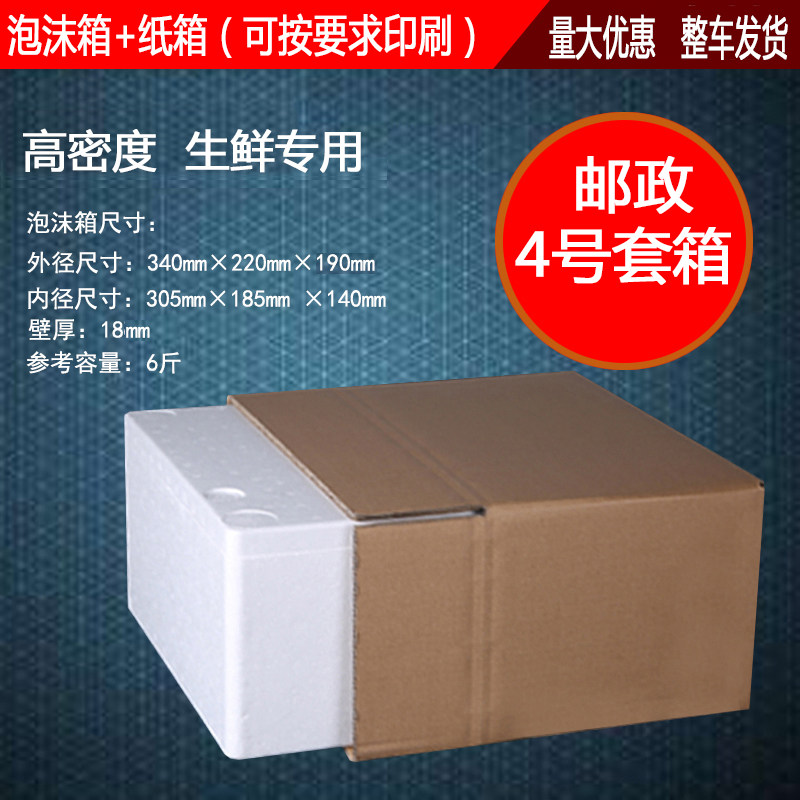Boxes: (125, 406, 358, 758)
